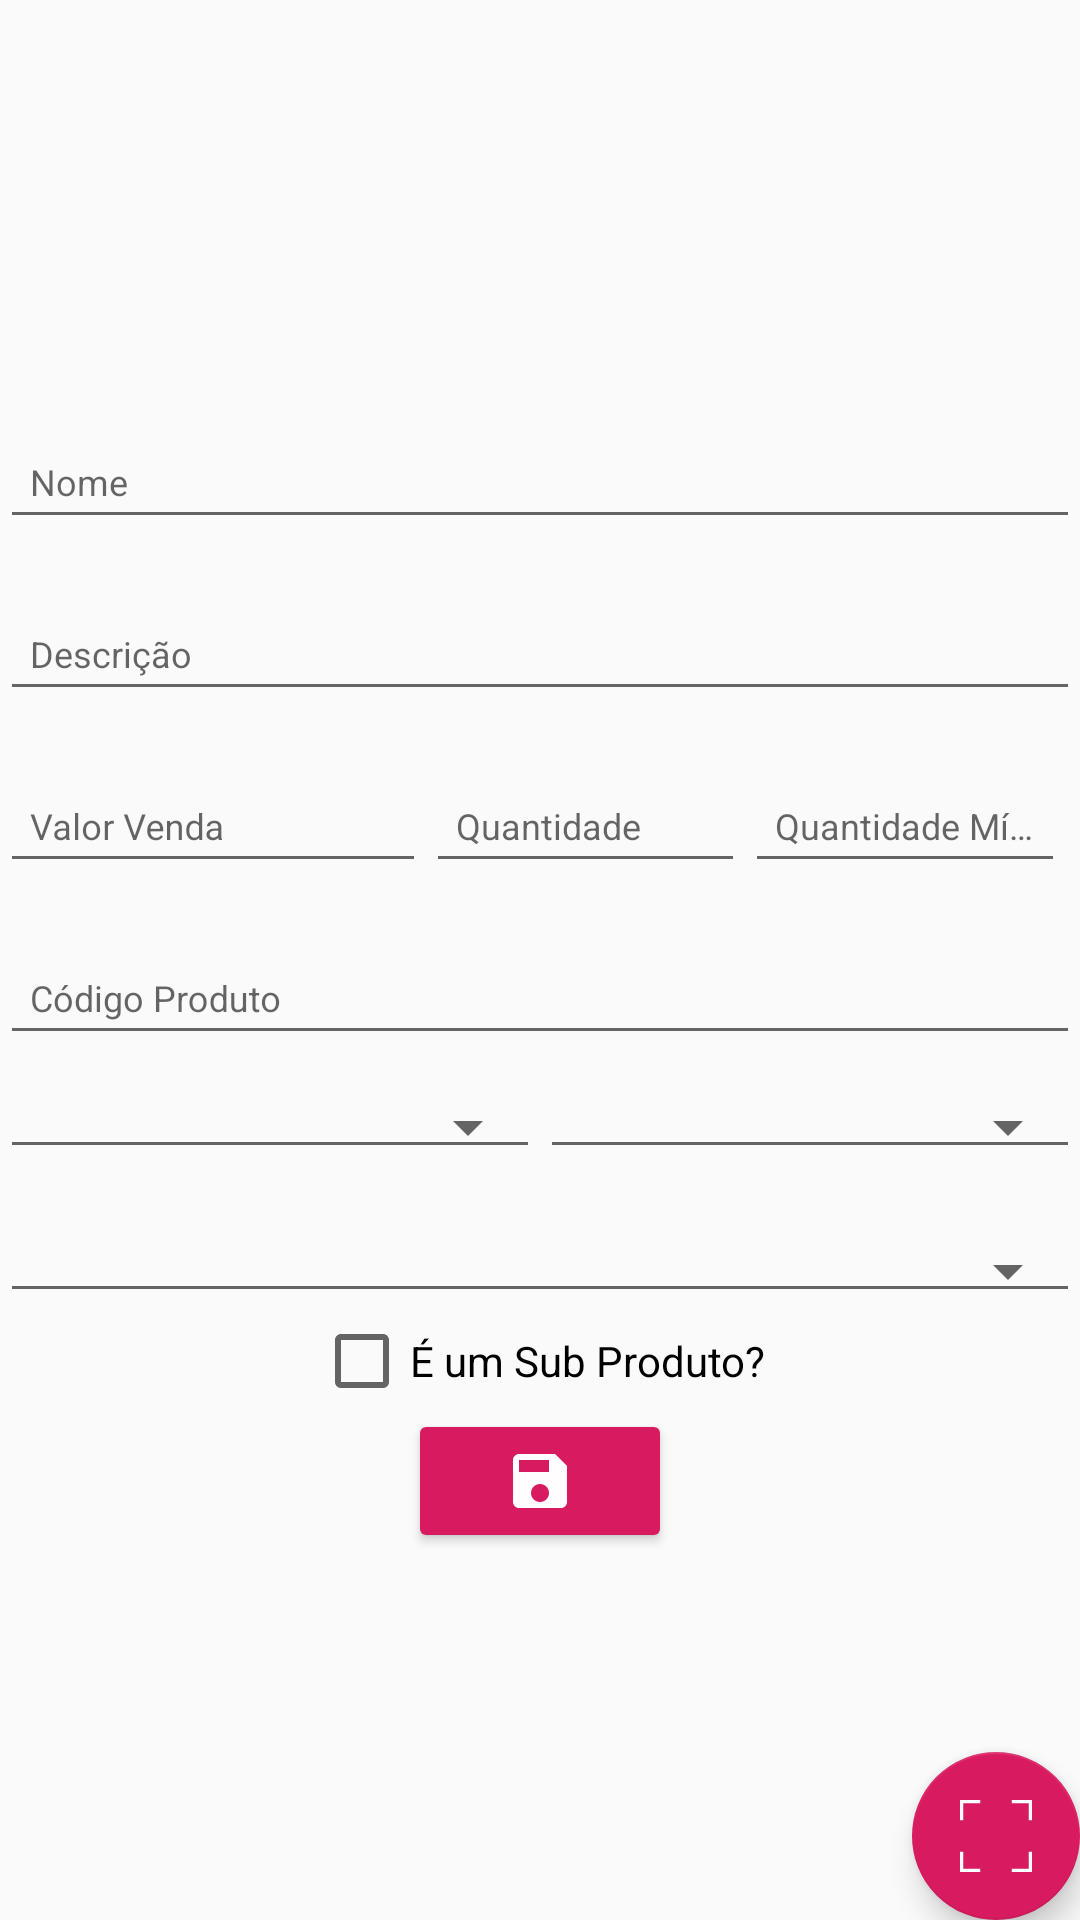

Screen size 1080 x 1920. Icon name, then its center in pixels as [x,y]:
qr code reader: [996,1836]
save: [540,1483]
